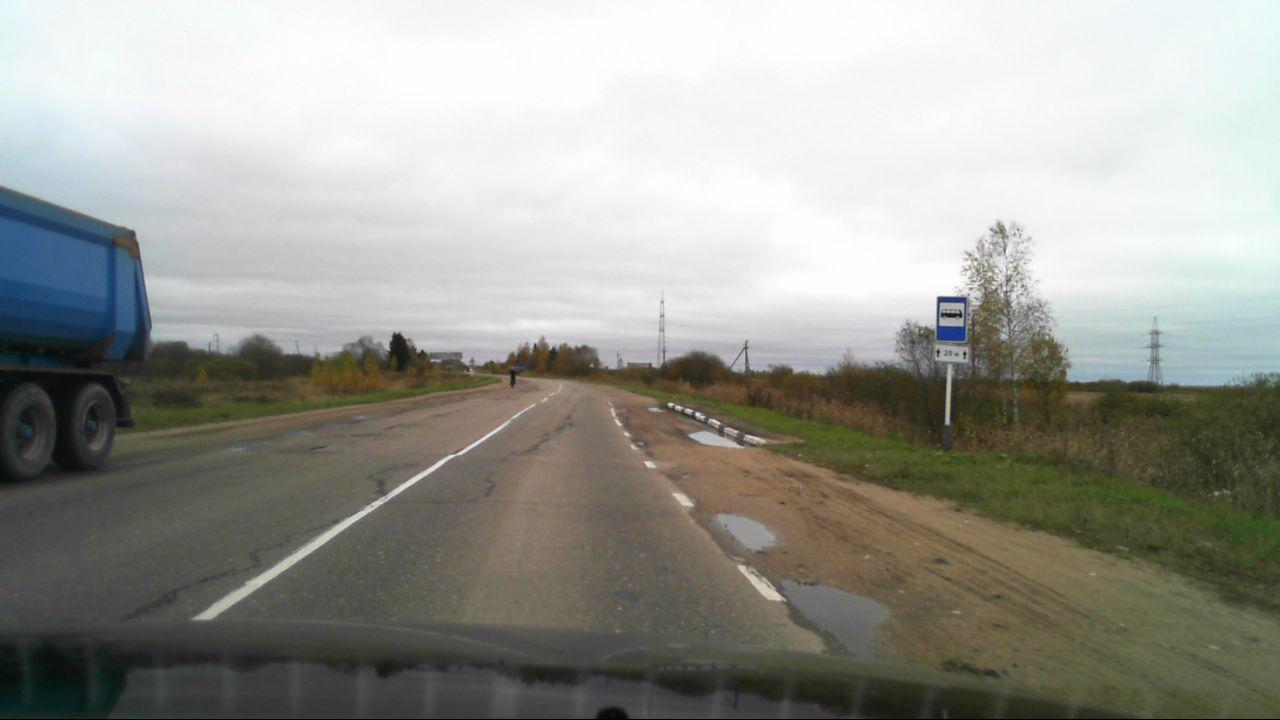5_16: (934, 291, 970, 341)
8_2_1: (933, 345, 969, 365)
